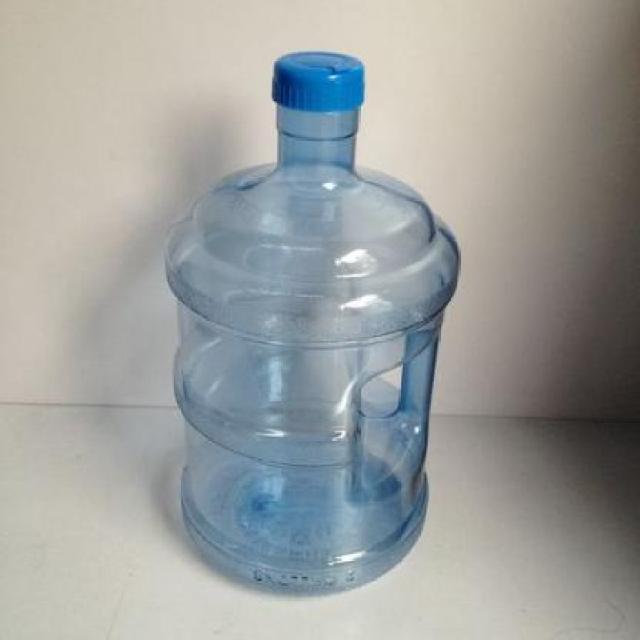coolerbottle: (160, 46, 463, 605)
